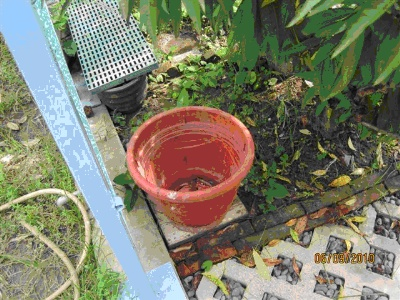bucket: (125, 105, 257, 229)
